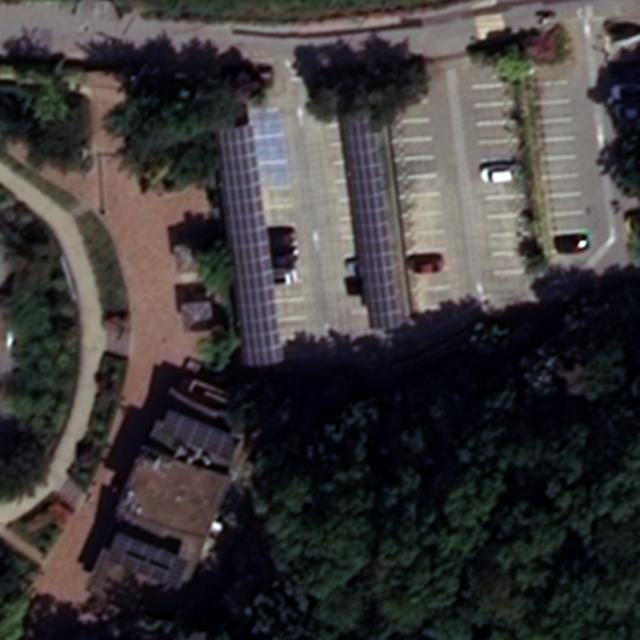solarpanel: (215, 123, 291, 367), (332, 109, 410, 330), (105, 531, 189, 593), (161, 409, 237, 461)
